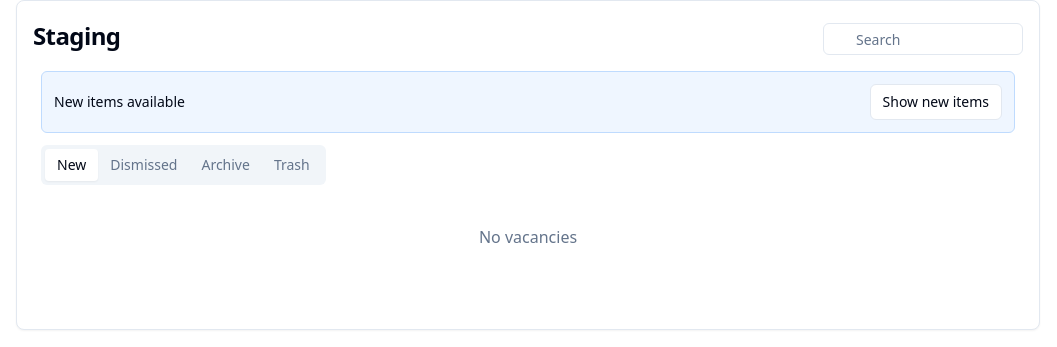
Test: StagingContainer — new items banner › dismisses the banner when 'Show new items' is clicked
Click the button "Show new items" at (936, 102), box [870,84,1002,120]
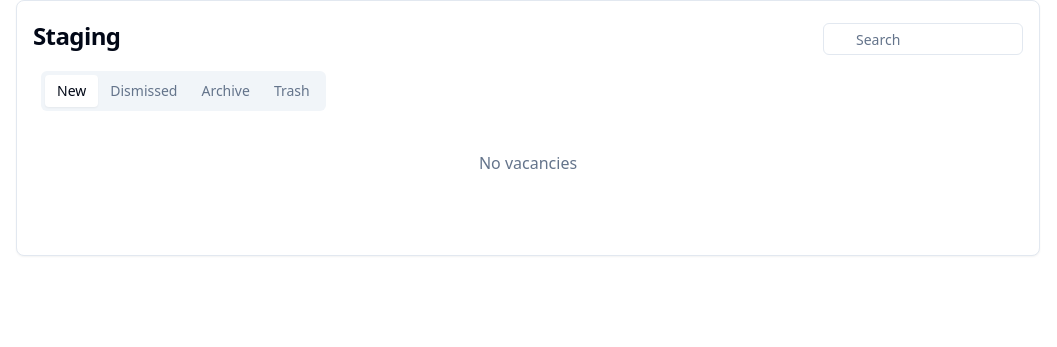
Result: the text "New items available" is not shown
